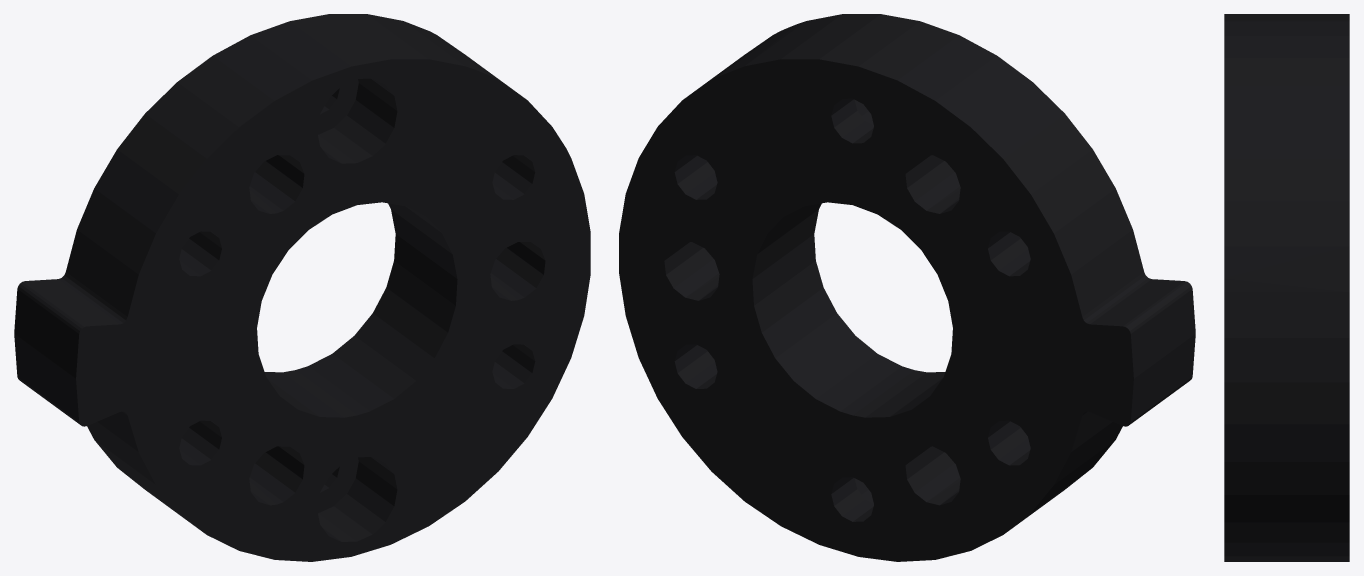
Rendered from link_6__dark.glb.
The picture shows the model from 3 angles, left to right: view 1: azimuth 30°, elevation 25°; view 2: azimuth 150°, elevation 25°; view 3: azimuth 270°, elevation 25°; orthographic projection.
Parts seen in each view (by area): view 1: link_6.STL; view 2: link_6.STL; view 3: link_6.STL.
Part boxes in pixels (box(x1,y1,x2,y2)): link_6.STL: box(14, 14, 590, 561); link_6.STL: box(619, 14, 1195, 561); link_6.STL: box(1224, 14, 1349, 561).
Bounding box in the file's own units: 0.0384 × 0.035 × 0.008.
1 material, 1 textured.
